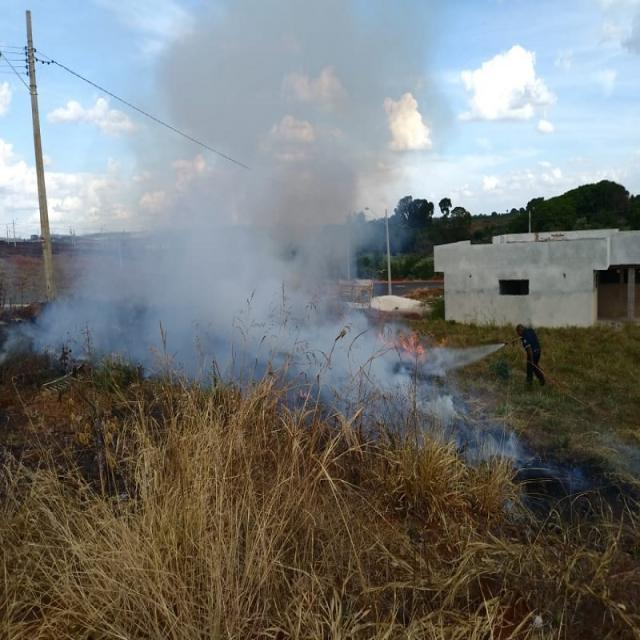Fire: (384, 322, 436, 354)
